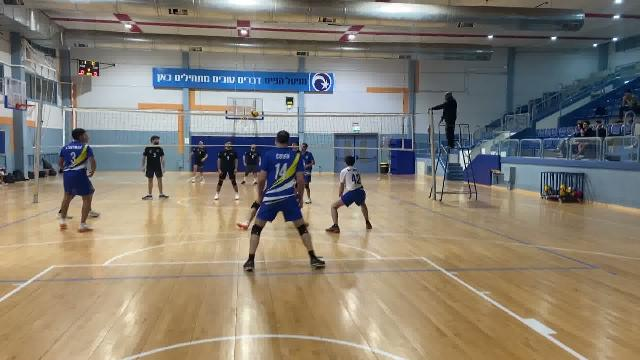ball: (248, 107, 261, 120)
